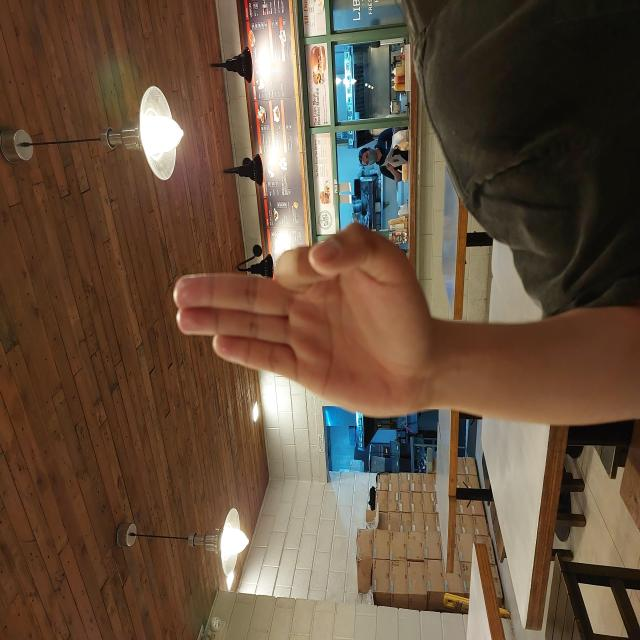F: (221, 174, 419, 432)
